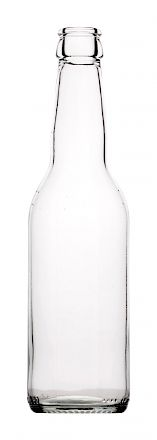glass_bottle: (23, 23, 133, 419)
